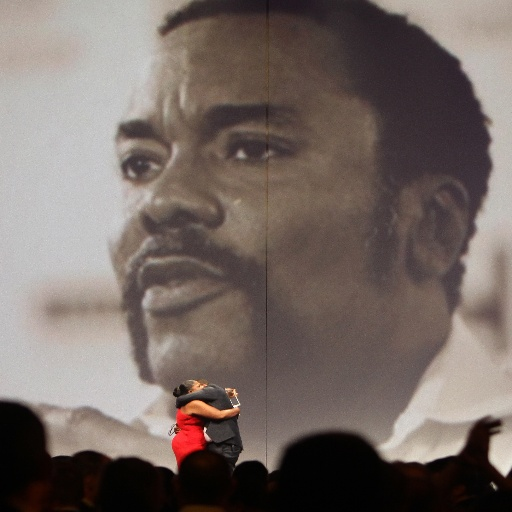hand: (468, 414, 504, 456), (471, 455, 497, 481), (230, 400, 240, 416), (227, 388, 238, 399), (174, 424, 182, 434)
